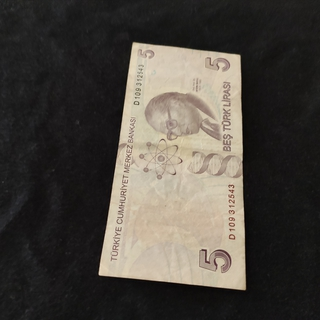5TLBack: (98, 41, 247, 291)
